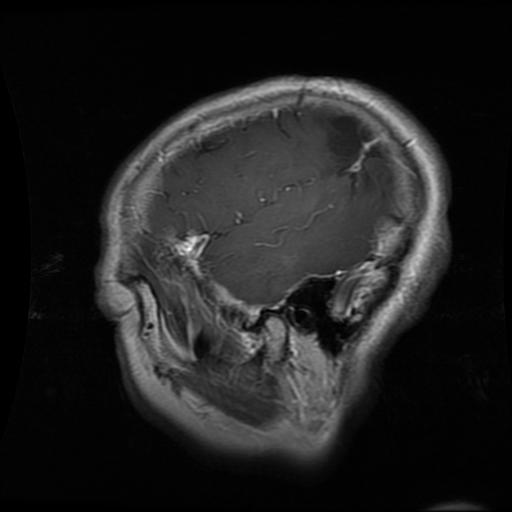Gliomia_tumour: (330, 115, 384, 194)
